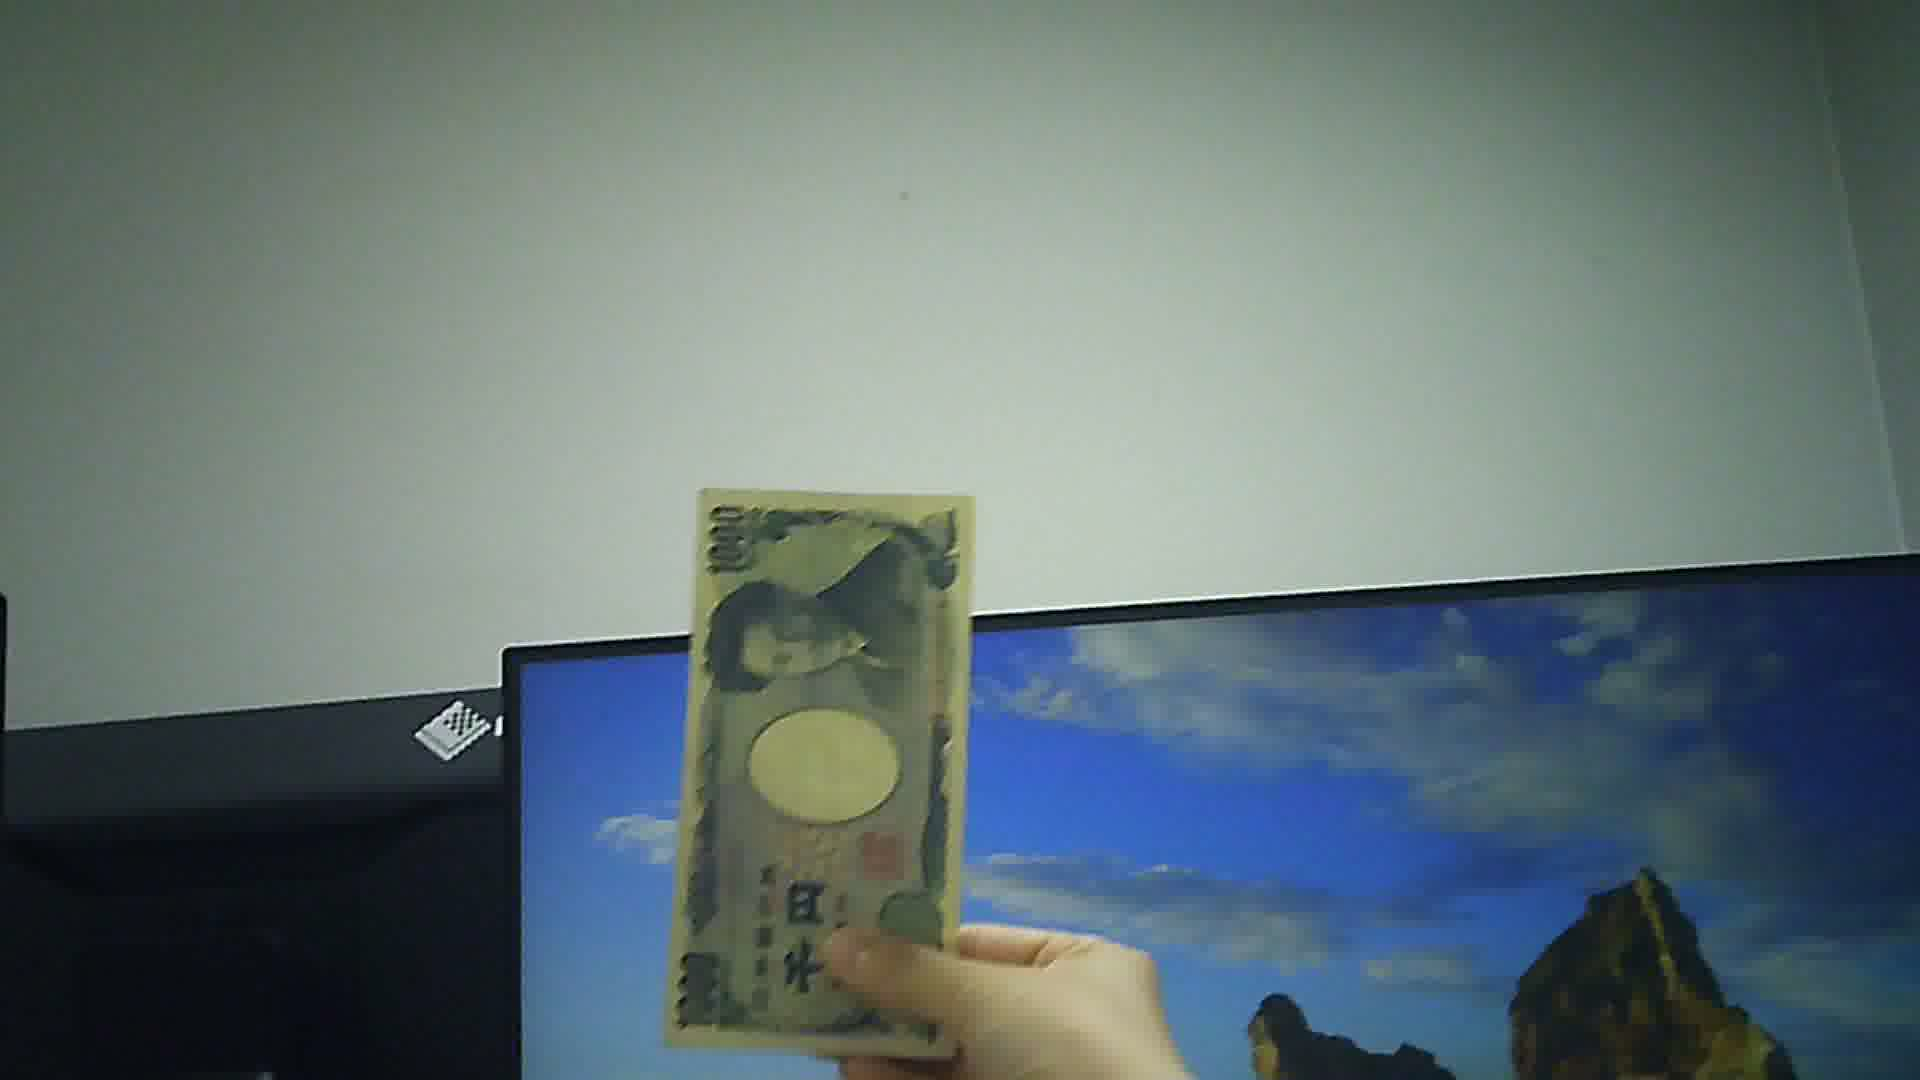1,000 Yen: (669, 487, 978, 1062)
